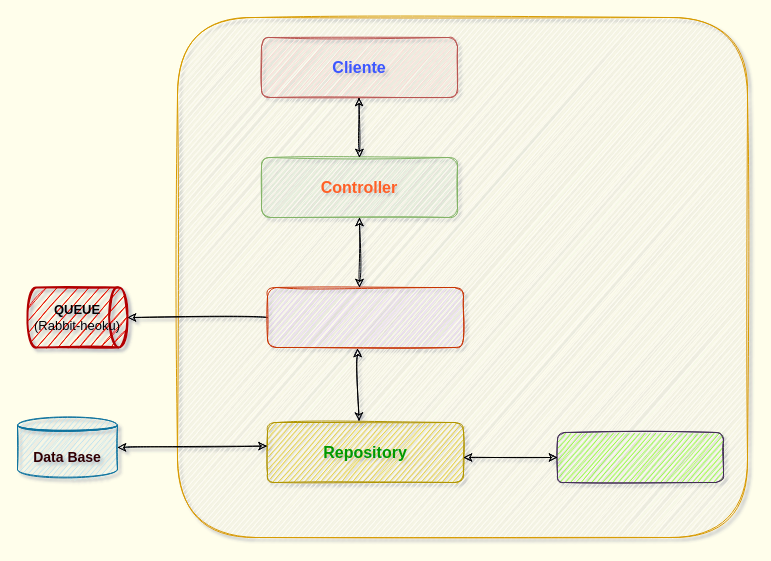
The diagram is 771 pixels wide and 561 high, and some of its shapes have lost their labels. The shapes that lost their labels are listed below. From the top down, each one's centre as x and y in pixels, then its label:
At [365,317]: "Services".
At [640,457]: "Models".
